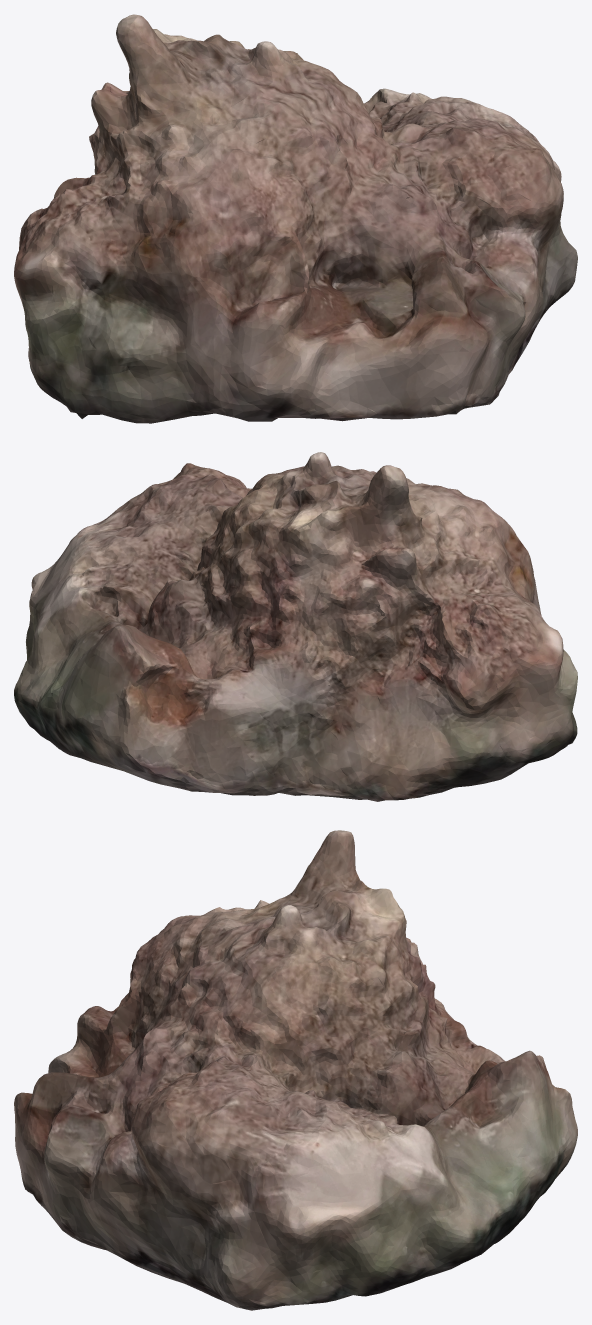
The picture shows the model from 3 angles, top to bottom: view 1: azimuth 30°, elevation 25°; view 2: azimuth 150°, elevation 25°; view 3: azimuth 270°, elevation 25°; orthographic projection. The views are drawn at different scales.
Size of the model in its own units: 0.0946 by 0.055 by 0.0891.
1 material, 1 textured.
